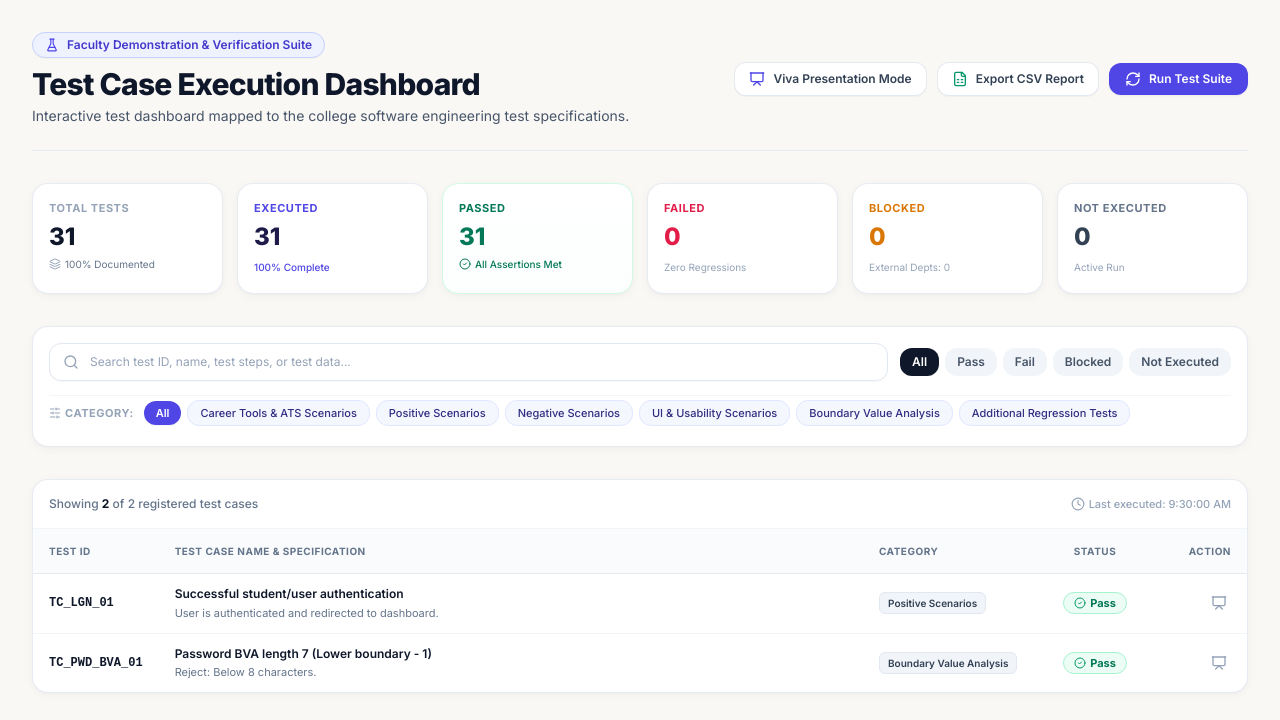
Frontend Test Case Dashboard UI & Functionality (Phase 6) › Renders test cases table and allows filtering
Expected: the text "TC_LGN_01" is shown, [33, 574, 159, 633]
Expected: the text "TC_PWD_BVA_01" is shown, [33, 633, 159, 692]
Note: Test Search input
Type "TC_LGN_01" into the field with placeholder "Search test ID, name, test steps, or test data...".
click(469, 362); type("TC_LGN_01")  # box [49, 342, 888, 380]
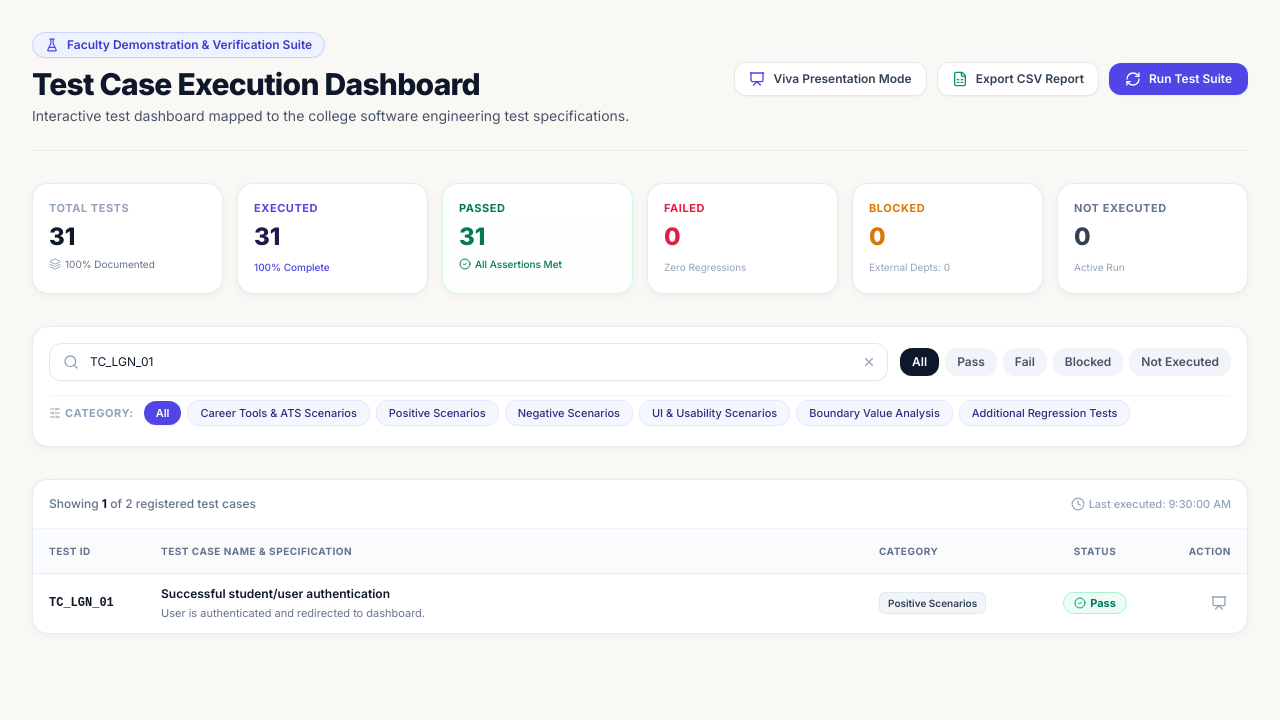
Expected: the text "TC_LGN_01" is shown, [33, 574, 145, 632]
Result: the text "TC_PWD_BVA_01" is gone
